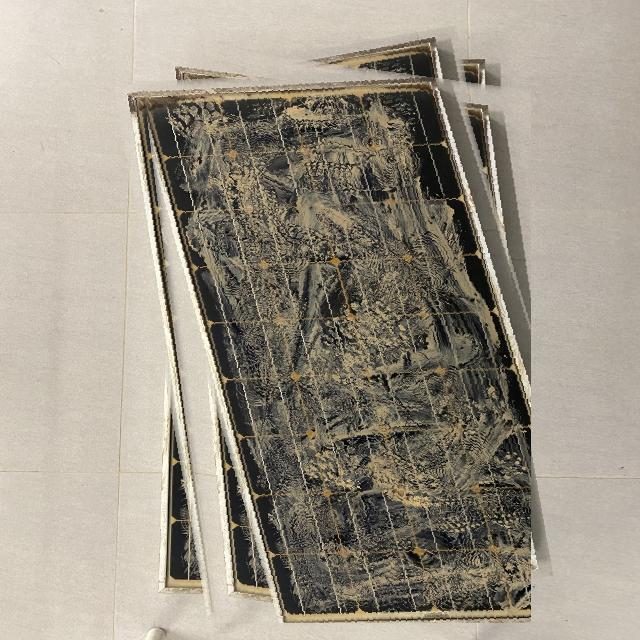Anomaly Solar Panel: (142, 80, 537, 622)
Surface Contaminant: (153, 87, 532, 617)
